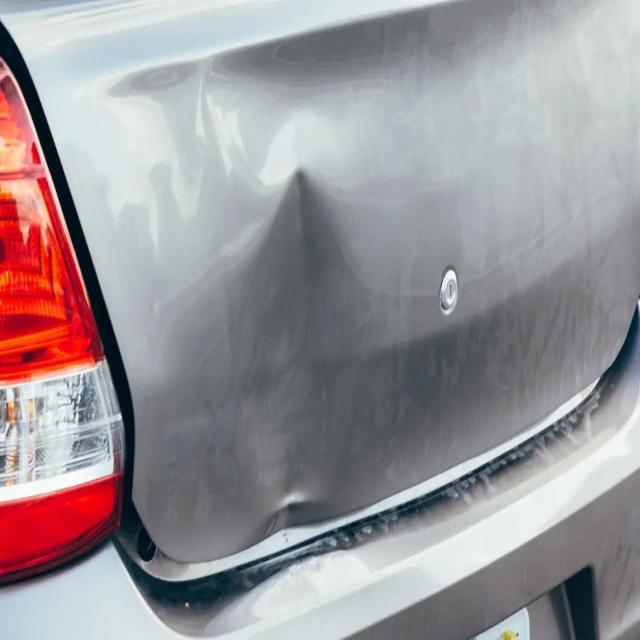dent: (205, 162, 412, 606)
